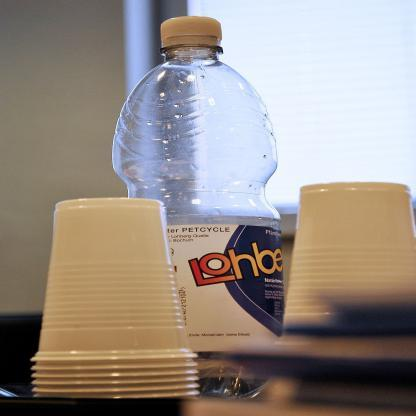bottle: (101, 9, 297, 399)
